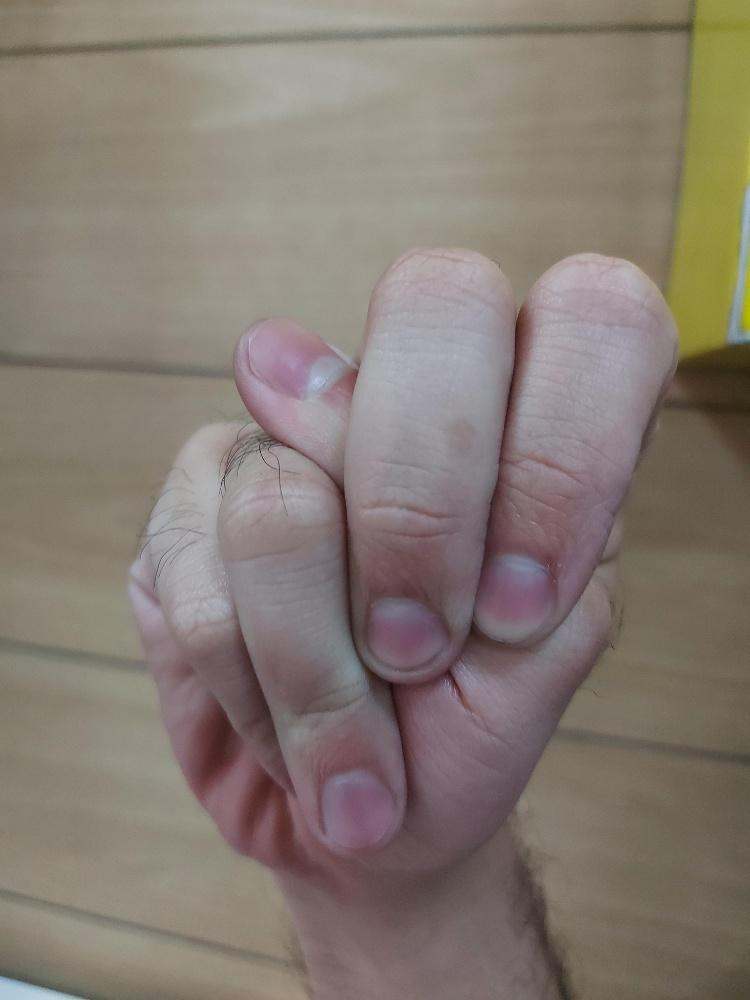n: (124, 237, 680, 894)
